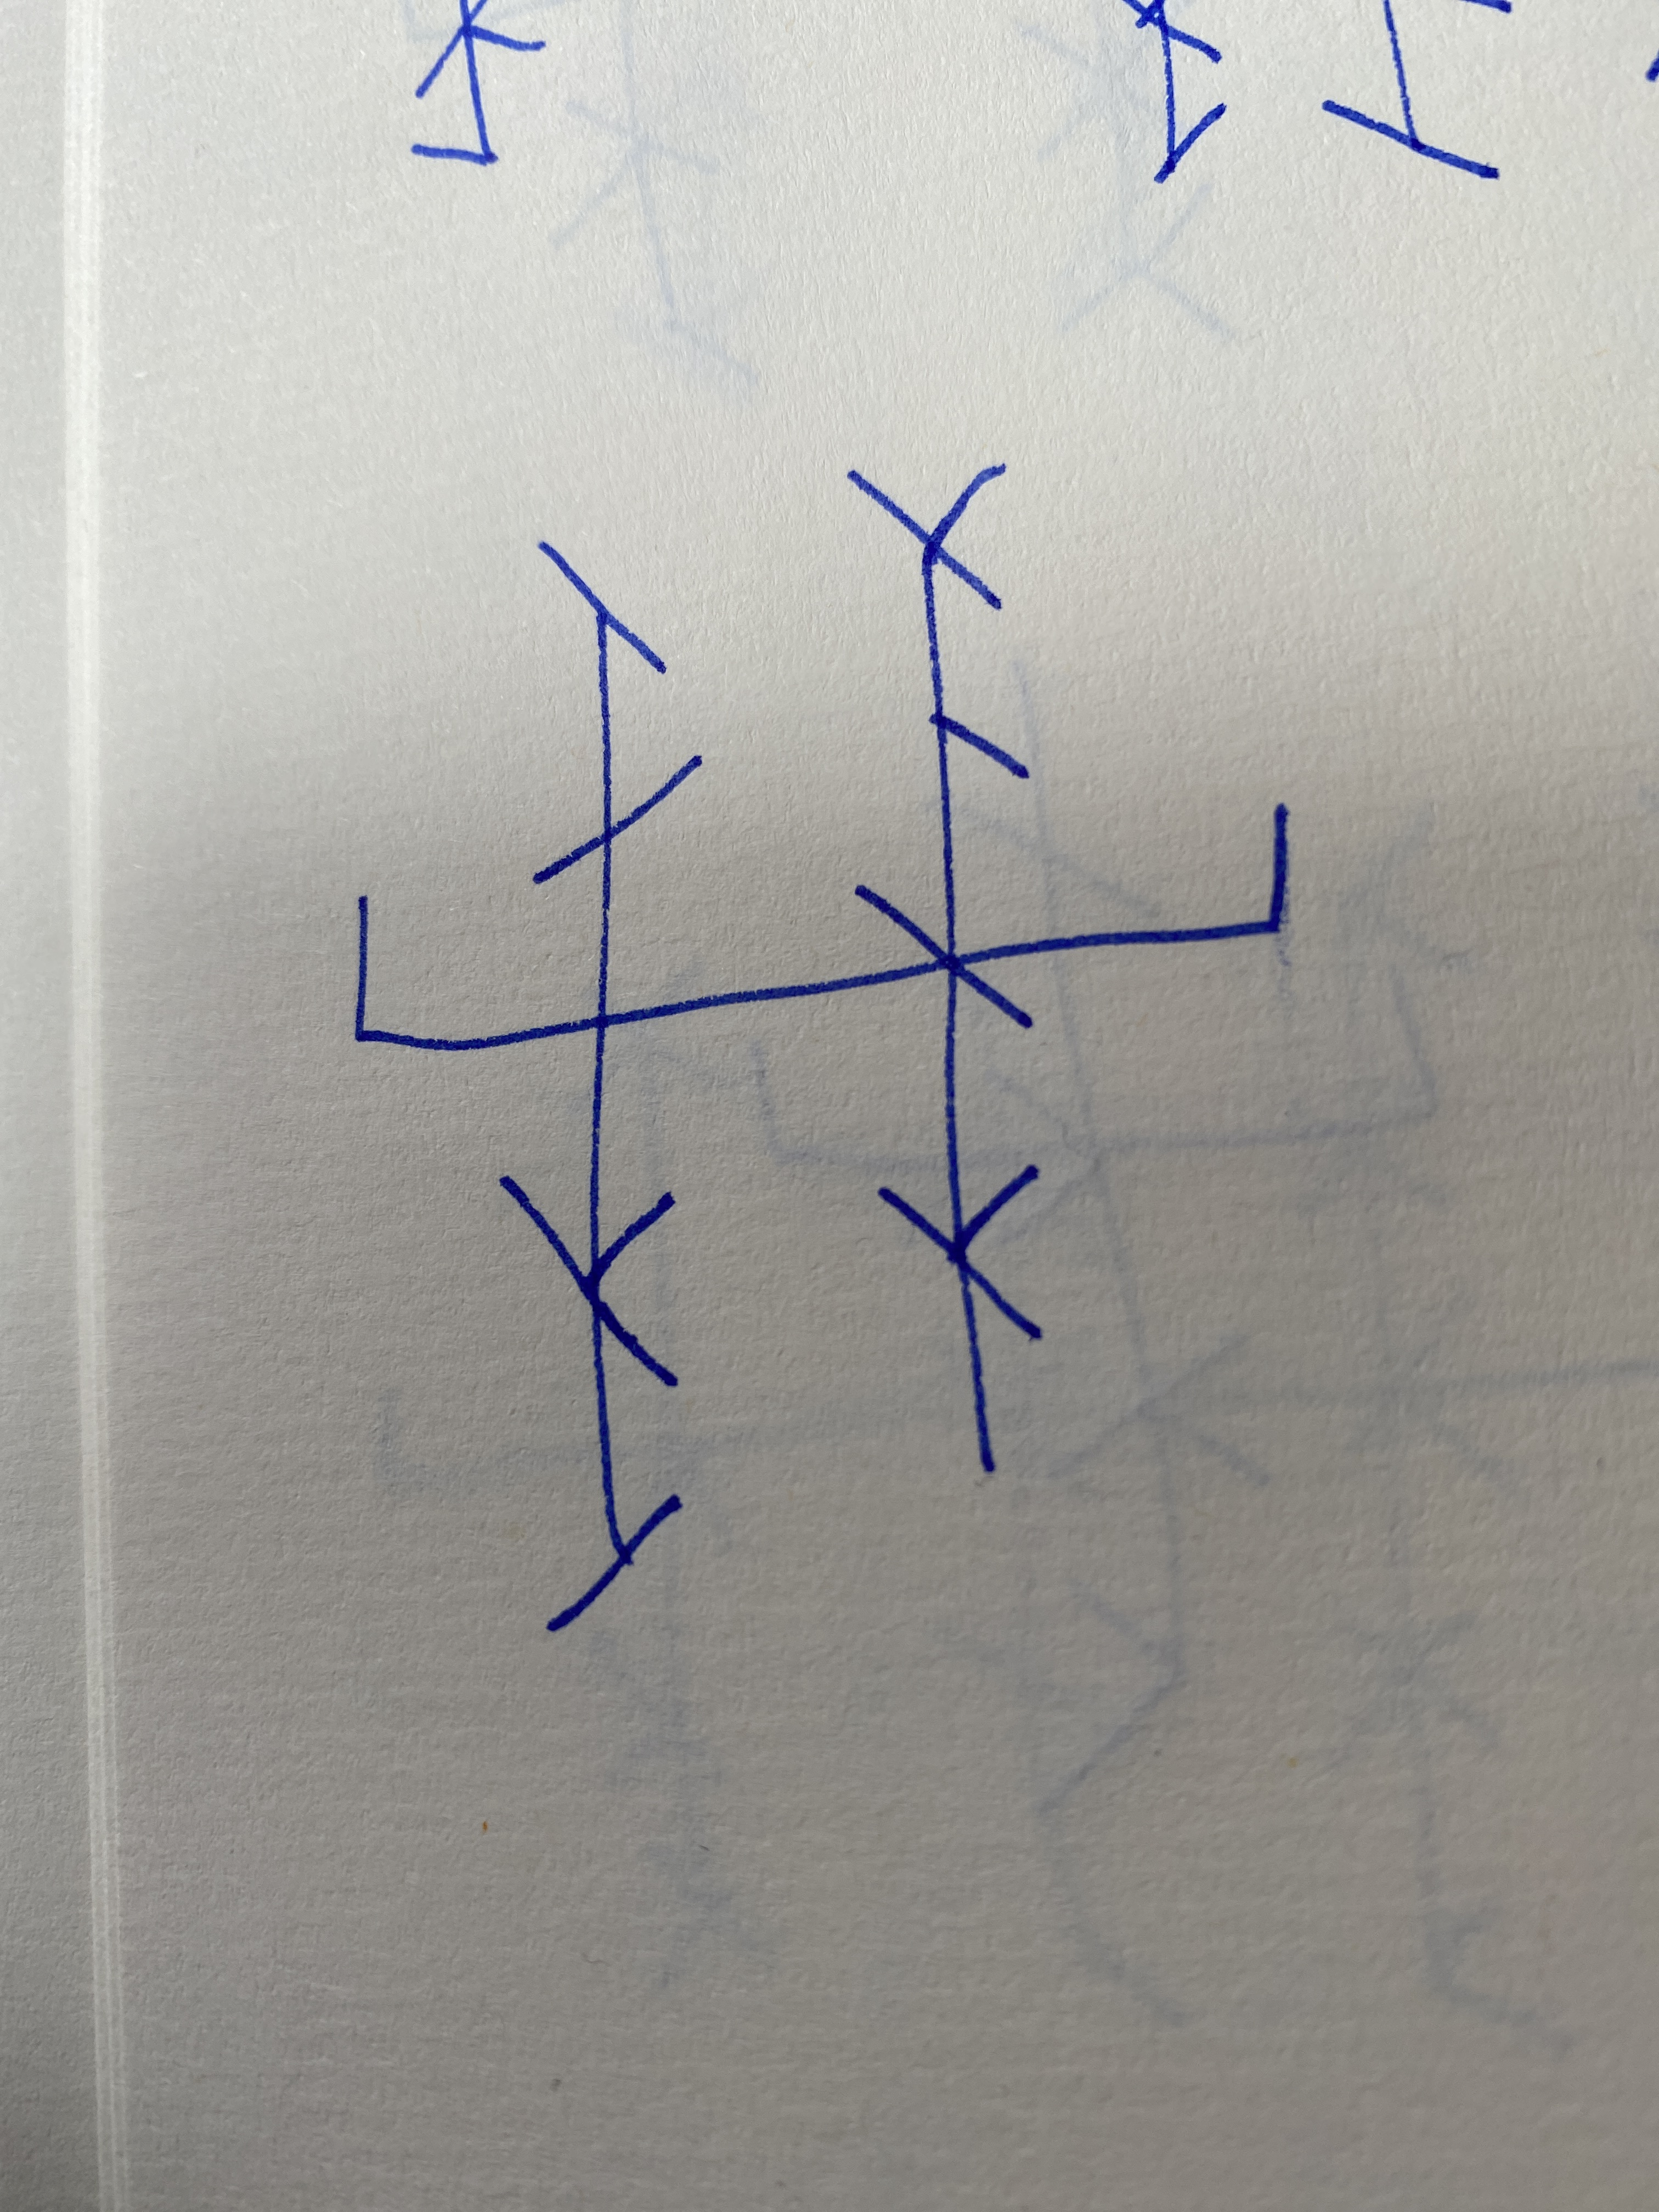Bar: (497, 538, 706, 1630), (847, 465, 1044, 1474)
Barcode: (354, 462, 1290, 1630)
End: (962, 805, 1291, 965)
Start: (354, 895, 596, 1054)
